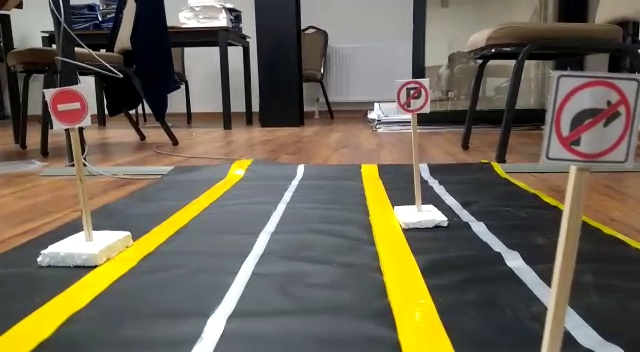girisi_olmayan_yol: (50, 87, 89, 126)
park_yapilmaz: (395, 77, 428, 114)
saga_donulmez: (553, 69, 631, 164)
